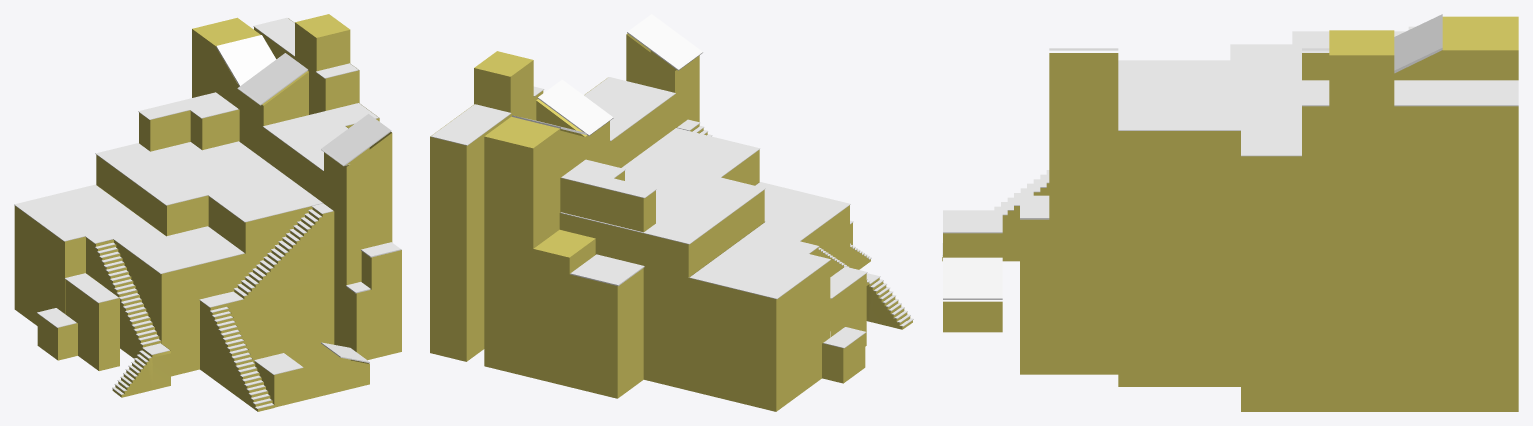
File: village1.FBX
The picture shows the model from 3 angles, left to right: view 1: azimuth 30°, elevation 25°; view 2: azimuth 150°, elevation 25°; view 3: azimuth 270°, elevation 25°; orthographic projection. The views are drawn at different scales.
Parts seen in each view (by area): view 1: village, all snow; view 2: village, all snow; view 3: village, all snow.
Boxes of the visible parts, x1,y1,x2,y2 form: village: (14, 14, 401, 411); all snow: (14, 17, 401, 408); village: (430, 33, 912, 411); all snow: (431, 14, 913, 348); village: (942, 16, 1518, 411); all snow: (942, 14, 1518, 299).
Size of the model in its own units: 3252 by 2297 by 3365.
